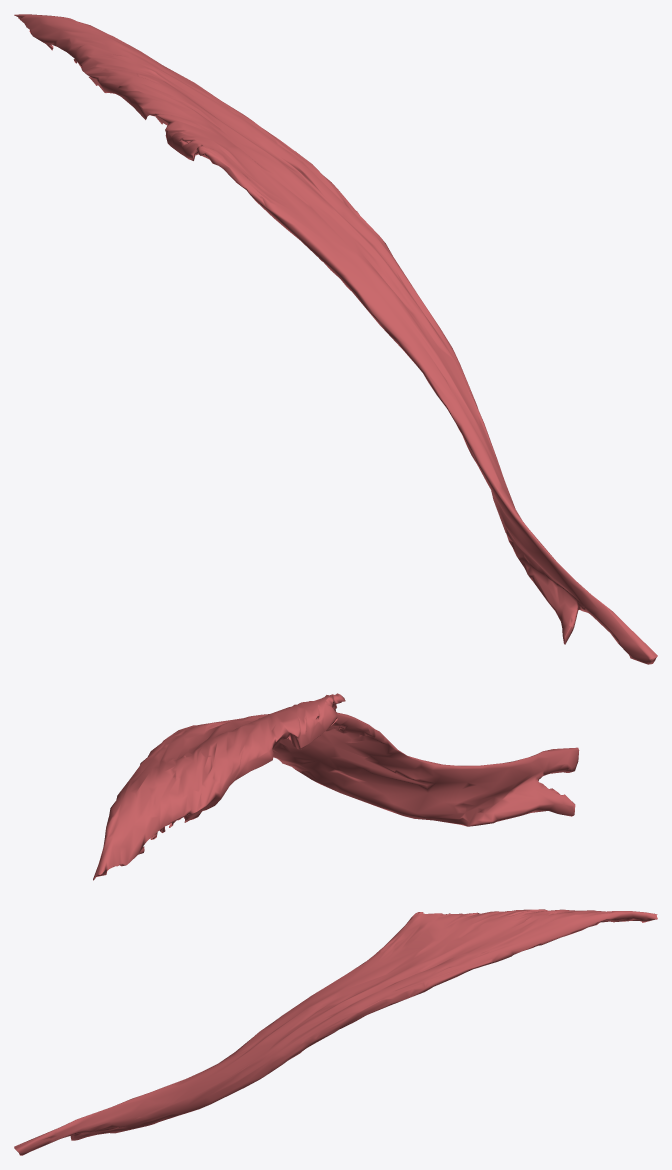
3 views of the same model, one above another, from view 1: azimuth 30°, elevation 25°; view 2: azimuth 150°, elevation 25°; view 3: azimuth 270°, elevation 25° (orthographic). The views are drawn at different scales.
Visible parts, largest first — view 1: 左侧颈夹肌; view 2: 左侧颈夹肌; view 3: 左侧颈夹肌.
Boxes of the visible parts, left/top/right/bottom form: 左侧颈夹肌: left=14, top=14, right=657, bottom=664; 左侧颈夹肌: left=93, top=693, right=579, bottom=880; 左侧颈夹肌: left=14, top=909, right=657, bottom=1155.
Size of the model in its own units: 0.0644 by 0.1359 by 0.3795.
